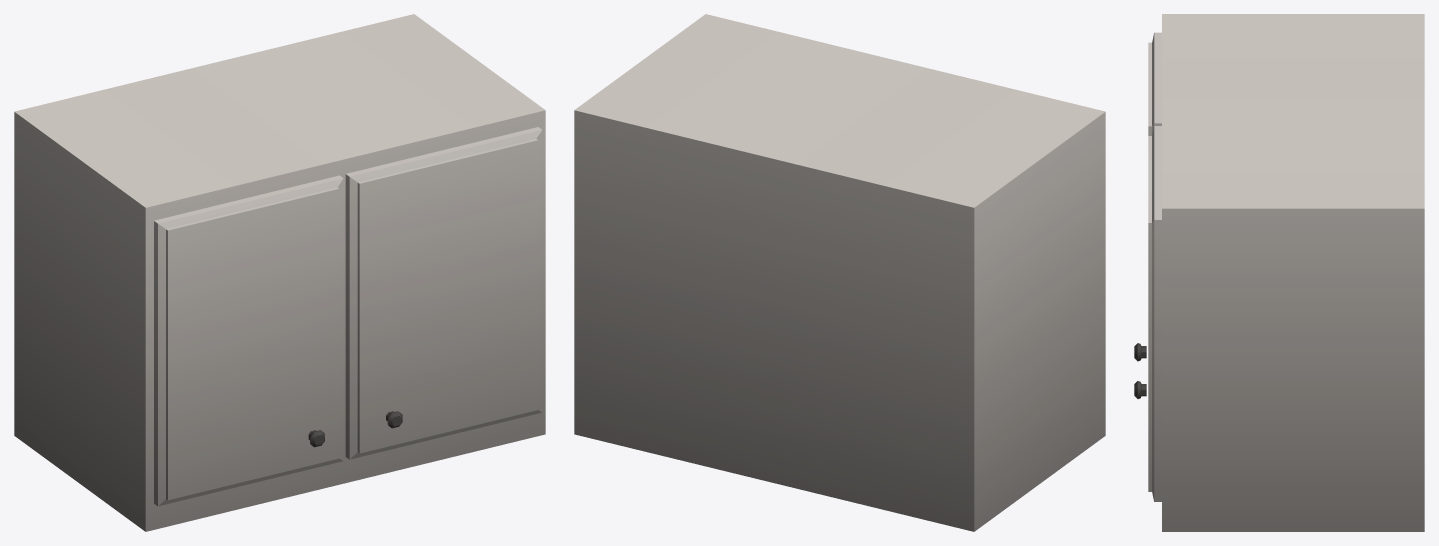
File: Unit_Kitchen_Cabinet_80cm.fbx
3 renders of one model, left to right at view 1: azimuth 30°, elevation 25°; view 2: azimuth 150°, elevation 25°; view 3: azimuth 270°, elevation 25°, orthographic.
Visible parts, largest first — view 1: Unit_Kitchen_Cabinet_80cm; view 2: Unit_Kitchen_Cabinet_80cm; view 3: Unit_Kitchen_Cabinet_80cm.
Part boxes in pixels (x1=…): Unit_Kitchen_Cabinet_80cm: x1=14, y1=14, x2=545, y2=531; Unit_Kitchen_Cabinet_80cm: x1=574, y1=14, x2=1105, y2=531; Unit_Kitchen_Cabinet_80cm: x1=1134, y1=14, x2=1424, y2=531.
Bounding box in the file's own units: 80 × 61.94 × 50.36.
